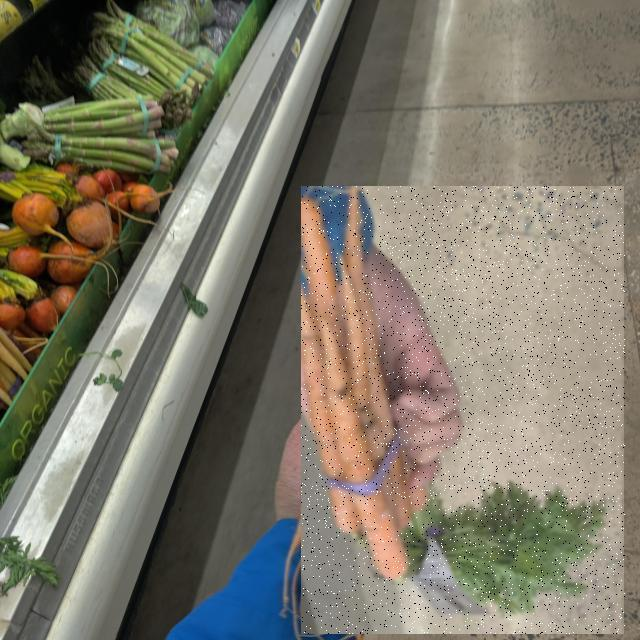Carrot: (302, 186, 626, 634)
